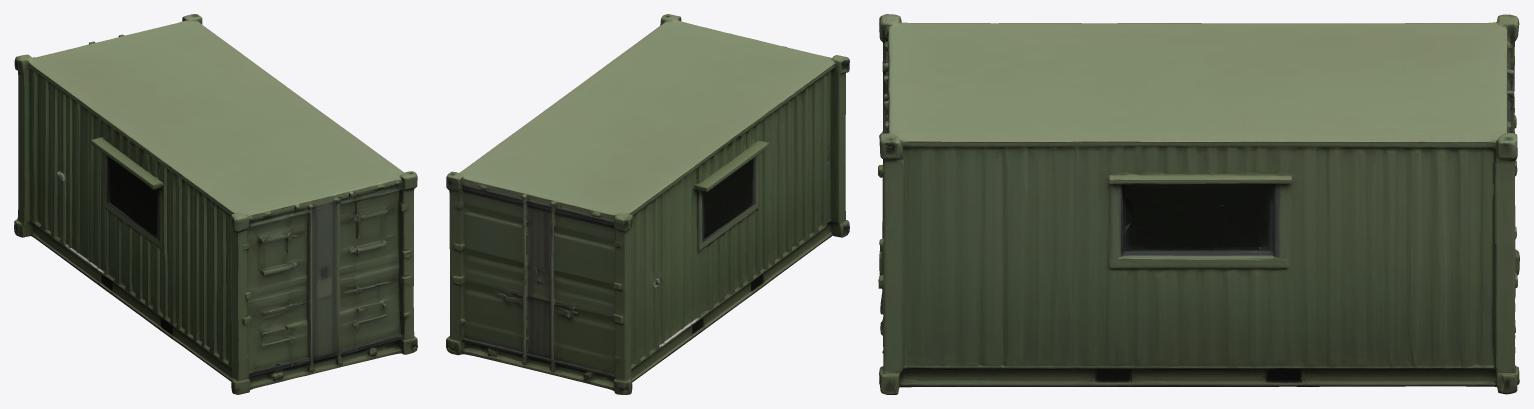
The model's file is container.glb.
The picture shows the model from 3 angles, left to right: view 1: azimuth 30°, elevation 25°; view 2: azimuth 150°, elevation 25°; view 3: azimuth 270°, elevation 25°; orthographic projection. The views are drawn at different scales.
Visible parts, largest first — view 1: geometry_0; view 2: geometry_0; view 3: geometry_0.
Part boxes in pixels (left/top/right/bottom): geometry_0: left=14, top=14, right=417, bottom=394; geometry_0: left=446, top=14, right=849, bottom=394; geometry_0: left=878, top=14, right=1519, bottom=394.
Bounding box in the file's own units: 0.4724 × 0.435 × 0.9961.
1 material, 1 textured.
